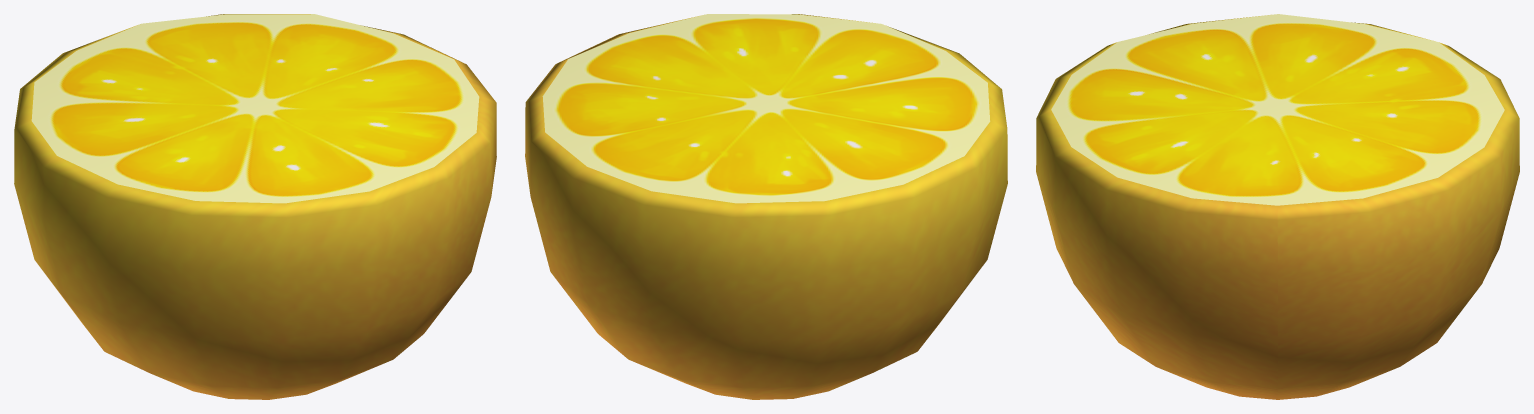
Rendered from Lemon_Half.fbx.
3 renders of one model, left to right at view 1: azimuth 30°, elevation 25°; view 2: azimuth 150°, elevation 25°; view 3: azimuth 270°, elevation 25°, orthographic.
Parts seen in each view (by area): view 1: Lemon_Half; view 2: Lemon_Half; view 3: Lemon_Half.
Part boxes in pixels (x1,y1,x2,y2): Lemon_Half: (14, 14, 496, 399); Lemon_Half: (525, 14, 1007, 399); Lemon_Half: (1036, 14, 1519, 399).
Size of the model in its own units: 23.63 by 14.74 by 23.63.
